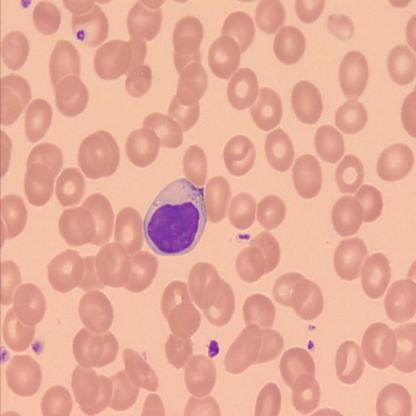Atypical lymphocyte: (143, 176, 208, 257)
